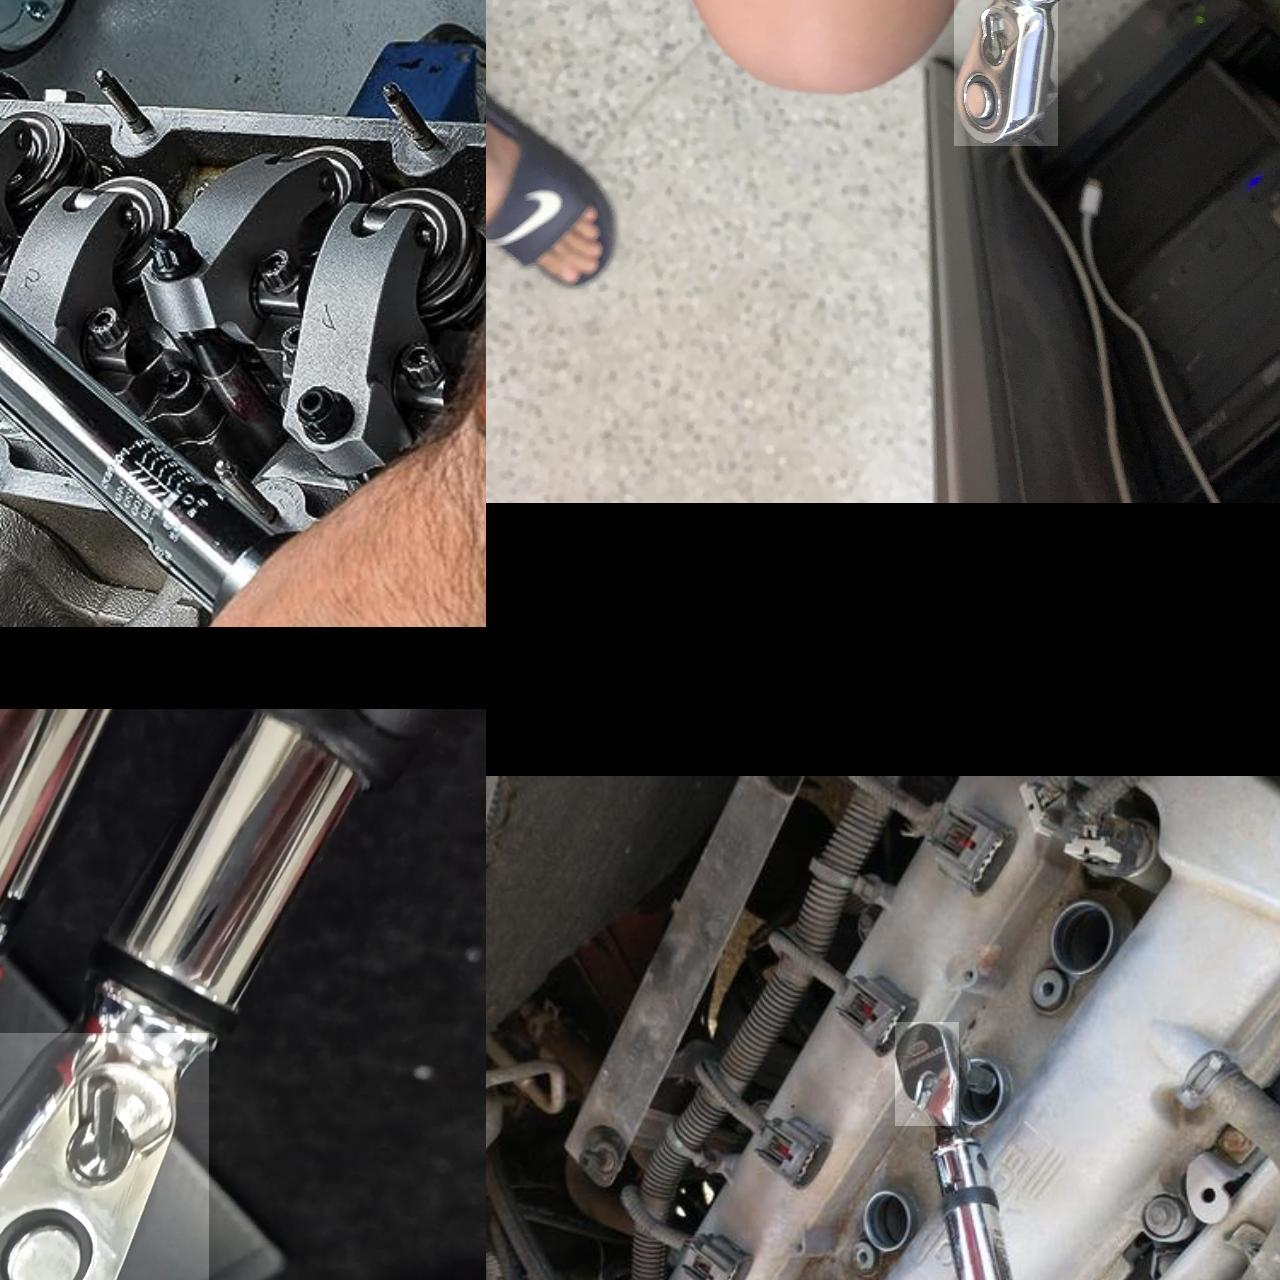Tool: (0, 1032, 209, 1280), (954, 0, 1058, 145), (896, 1021, 959, 1125)
